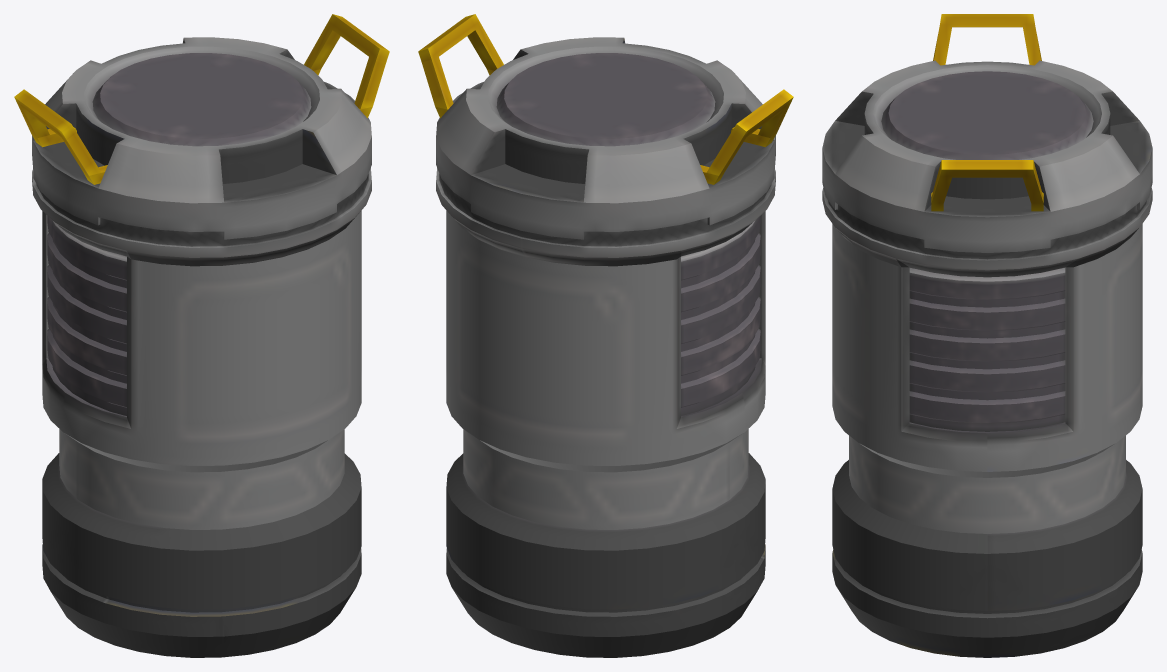
Rendered from prop_barrel.glb.
The picture shows the model from 3 angles, left to right: view 1: azimuth 30°, elevation 25°; view 2: azimuth 150°, elevation 25°; view 3: azimuth 270°, elevation 25°; orthographic projection. The views are drawn at different scales.
Visible parts, largest first — view 1: Prop_Barrel1; view 2: Prop_Barrel1; view 3: Prop_Barrel1.
Part boxes in pixels (box(x1,y1,x2,y2)): Prop_Barrel1: box(14, 14, 389, 657); Prop_Barrel1: box(418, 14, 793, 657); Prop_Barrel1: box(822, 14, 1152, 657).
Size of the model in its own units: 0.722 by 1.11 by 0.6485.
Materials: 1 (1 with a texture image).
